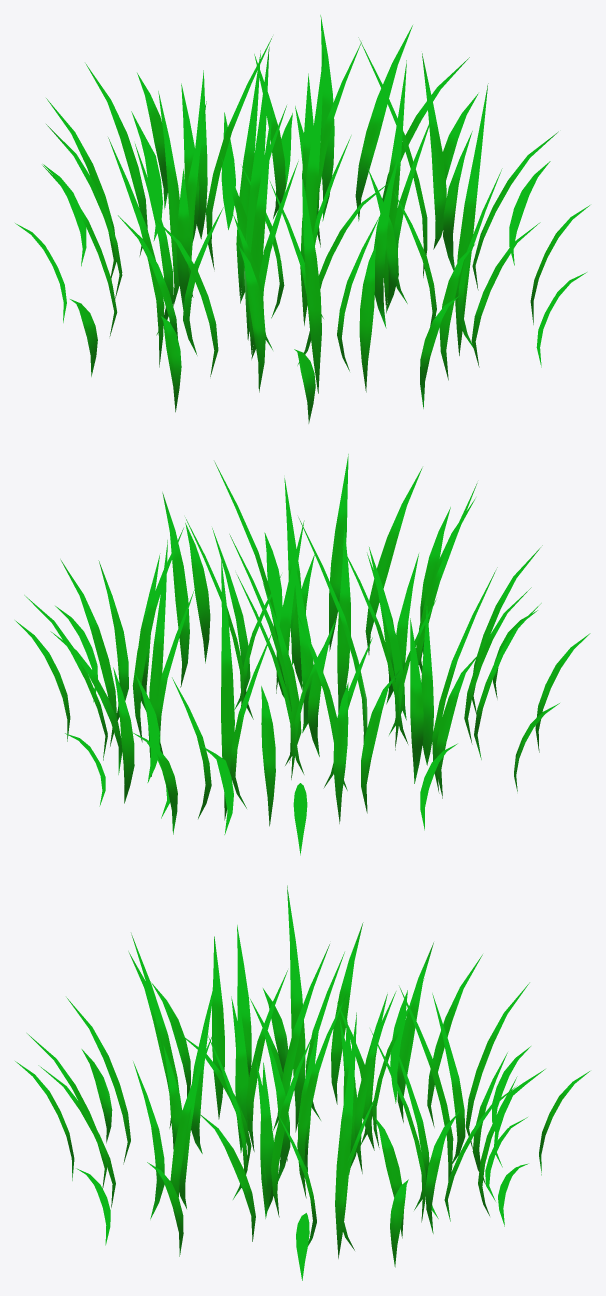
The model's file is Grass.fbx.
3 renders of one model, top to bottom at view 1: azimuth 30°, elevation 25°; view 2: azimuth 150°, elevation 25°; view 3: azimuth 270°, elevation 25°, orthographic. The views are drawn at different scales.
Parts seen in each view (by area): view 1: Grass; view 2: Grass; view 3: Grass.
Part boxes in pixels (left/top/right/bottom): Grass: left=15, top=15, right=589, bottom=423; Grass: left=15, top=454, right=590, bottom=855; Grass: left=15, top=885, right=589, bottom=1280.
Bounding box in the file's own units: 3.35 × 3.68 × 1.75.
1 material, 1 textured.
